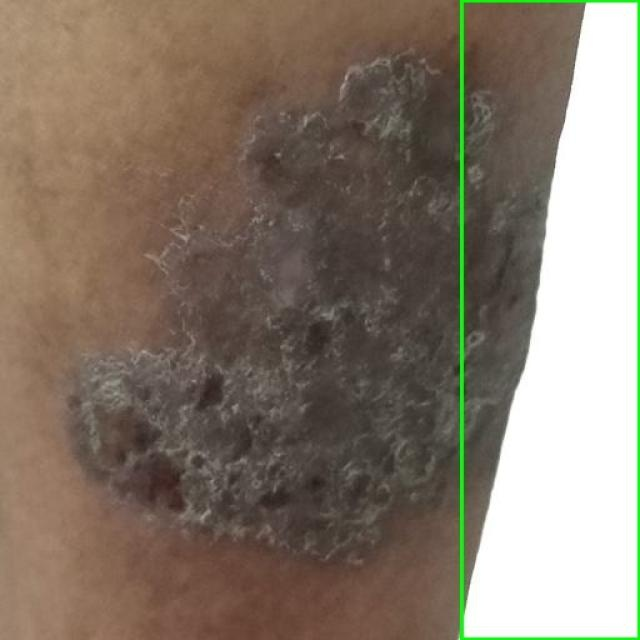Eczema: (461, 0, 639, 639)
